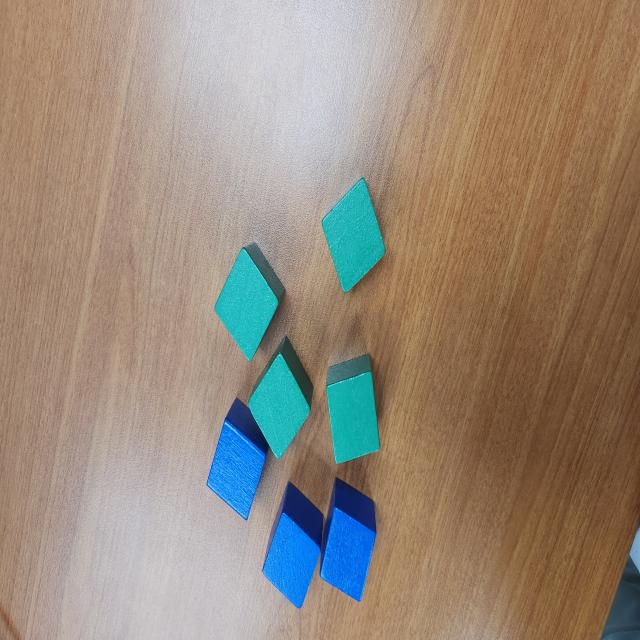blue: (262, 482, 324, 608), (206, 399, 266, 520), (320, 479, 377, 603)
green: (246, 335, 314, 460), (213, 243, 285, 359), (320, 176, 386, 292), (325, 355, 380, 464)
